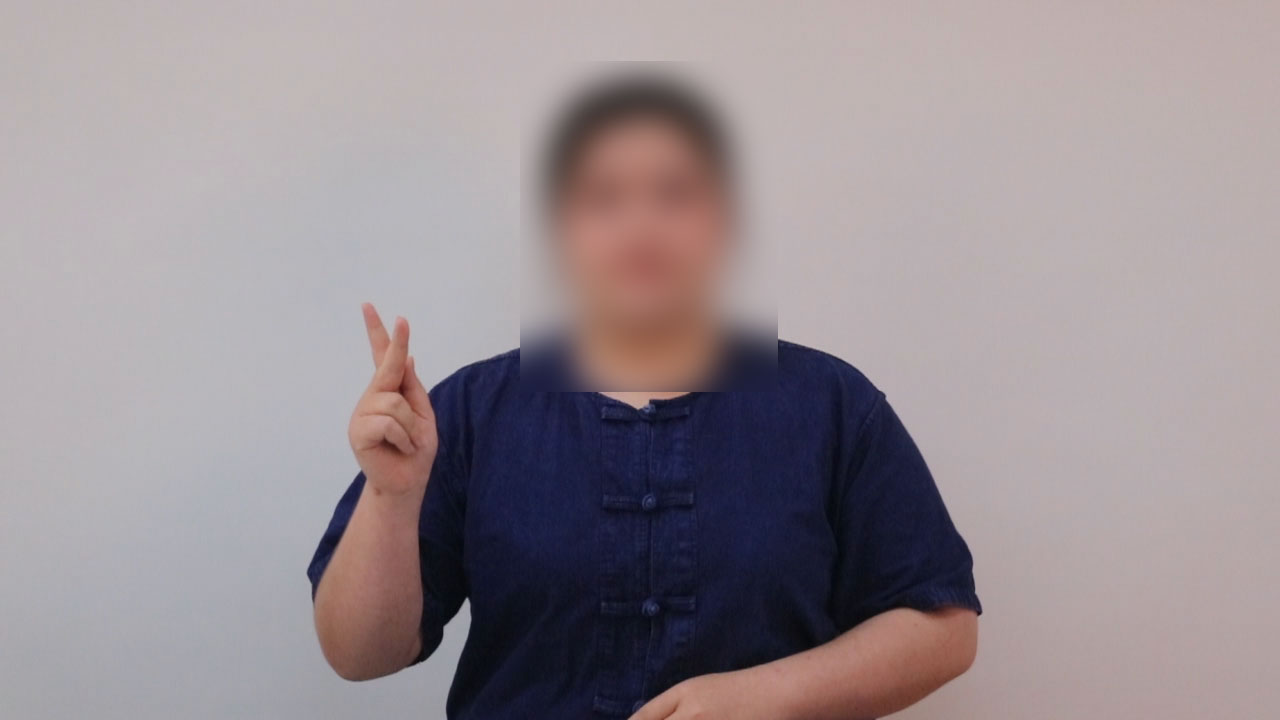ko: (307, 300, 477, 490)
